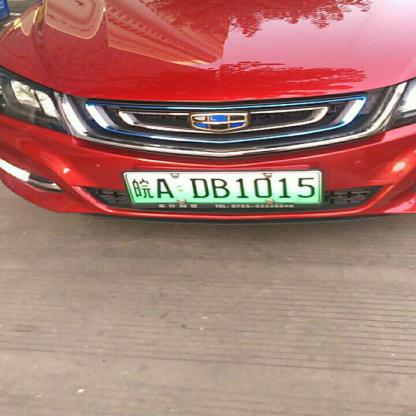lp: (126, 172, 320, 202)
